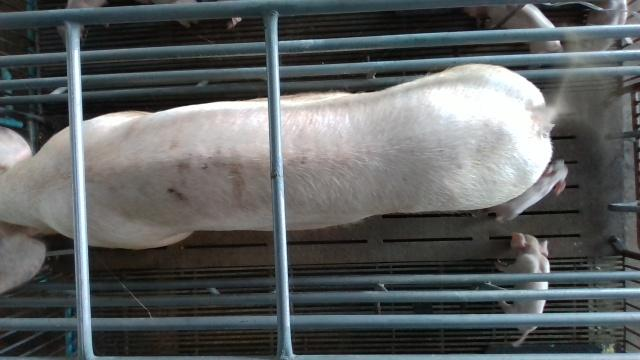piglet: (496, 233, 550, 345), (482, 159, 569, 223), (465, 5, 563, 53)
sow-stand-feed: (0, 64, 553, 296)
